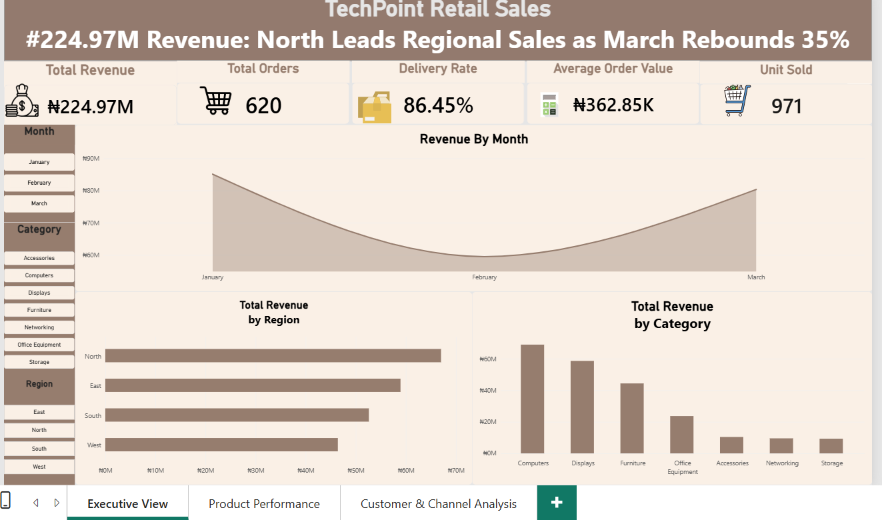

What the dashboard file says about the page in this screenshot:
{"tool":"powerbi","page":{"name":"Executive View","canvas":[1920,1080],"ordinal":0},"visuals":[{"type":"textbox","title":"TechPoint Retail Sales","box":[9.1,0,1910.9,145.8],"z":0},{"type":"cardVisual","title":"Total Revenue","fields":{"Data":["techpoint_retail customers.Total Revenue"]},"box":[9.5,146.5,380.4,139.4],"z":1000},{"type":"cardVisual","title":"Total Orders","fields":{"Data":["techpoint_retail customers.Total Orders"]},"box":[388.9,145.8,379.7,139.7],"z":2000},{"type":"cardVisual","title":"Average Order Value","fields":{"Data":["techpoint_retail customers.Average Order Value"]},"box":[1160.5,145.8,379.7,139.7],"z":3000},{"type":"cardVisual","title":"Unit Sold","fields":{"Data":["techpoint_retail customers.Unit Sold"]},"box":[1540.4,146.5,380.4,139.4],"z":4000},{"type":"barChart","fields":{"Category":["techpoint_retail customers.Region"],"Y":["techpoint_retail customers.Total Revenue"]},"box":[164.1,653.2,874.9,425.3],"z":5000},{"type":"areaChart","title":"Revenue By Month","fields":{"Category":["techpoint_retail sales.Month"],"Y":["techpoint_retail customers.Total Revenue"]},"box":[164.1,285.6,1755.9,367.6],"z":6000},{"type":"cardVisual","title":"Delivery Rate","fields":{"Data":["techpoint_retail sales.Delivery Rate"]},"box":[774.7,145.8,379.7,139.7],"z":7000},{"type":"clusteredColumnChart","fields":{"Category":["techpoint_retail product.Category"],"Y":["techpoint_retail customers.Total Revenue"]},"box":[1039,653.2,881,425.3],"z":8000},{"type":"advancedSlicerVisual","fields":{"Values":["techpoint_retail sales.Month"]},"box":[9.5,285.9,155.9,215],"z":9000},{"type":"advancedSlicerVisual","fields":{"Values":["techpoint_retail sales.Category"]},"box":[9.5,500.9,155.9,344.9],"z":10000},{"type":"advancedSlicerVisual","fields":{"Values":["techpoint_retail sales.Region"]},"box":[9.5,845.8,155.9,233.9],"z":11000},{"type":"image","box":[9.5,196.1,79,72.9],"z":12000},{"type":"image","box":[419.2,197.5,112.4,69.9],"z":13000},{"type":"image","box":[1181.8,197.5,54.7,88.1],"z":14000},{"type":"image","box":[774.7,197.5,91.1,88.1],"z":15000},{"type":"image","box":[1567.6,197.5,112.4,69.9],"z":16000}]}

Visuals, with their boxes on the page's 1920x1080 design canvas (x1, y1, x2, y2). These are canvas units, not pixel positions in the 882x520 screenshot, which may show the page scaled, cropped or inside an application window:
"TechPoint Retail Sales" textbox: (9, 0, 1920, 146)
"Total Revenue" cardVisual: (10, 146, 390, 286)
"Total Orders" cardVisual: (389, 146, 769, 286)
"Average Order Value" cardVisual: (1160, 146, 1540, 286)
"Unit Sold" cardVisual: (1540, 146, 1921, 286)
barChart - techpoint_retail customers.Region x techpoint_retail customers.Total Revenue: (164, 653, 1039, 1078)
"Revenue By Month" areaChart: (164, 286, 1920, 653)
"Delivery Rate" cardVisual: (775, 146, 1154, 286)
clusteredColumnChart - techpoint_retail product.Category x techpoint_retail customers.Total Revenue: (1039, 653, 1920, 1078)
advancedSlicerVisual - techpoint_retail sales.Month: (10, 286, 165, 501)
advancedSlicerVisual - techpoint_retail sales.Category: (10, 501, 165, 846)
advancedSlicerVisual - techpoint_retail sales.Region: (10, 846, 165, 1080)
image: (10, 196, 88, 269)
image: (419, 198, 532, 267)
image: (1182, 198, 1236, 286)
image: (775, 198, 866, 286)
image: (1568, 198, 1680, 267)
